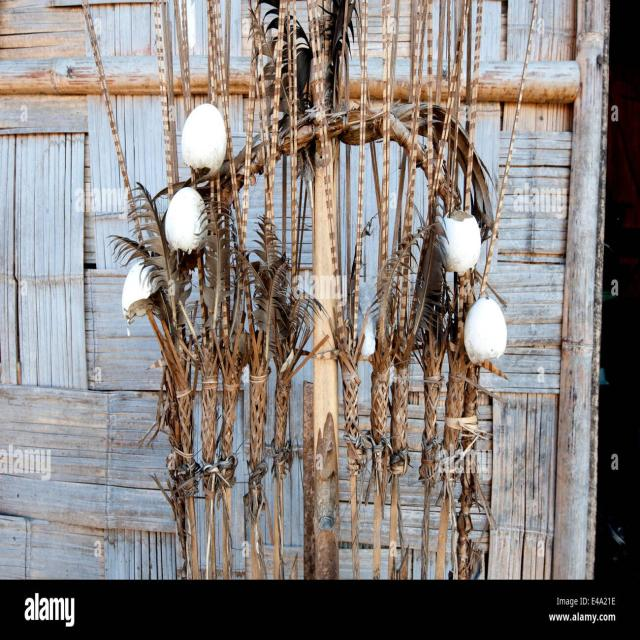organic: (251, 19, 520, 161), (343, 217, 435, 579), (167, 189, 206, 260), (184, 106, 222, 178)
